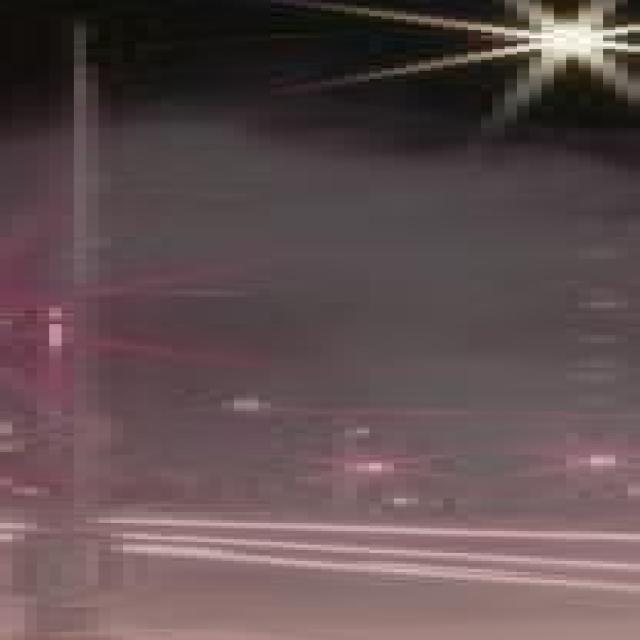street light: (12, 2, 639, 640)
